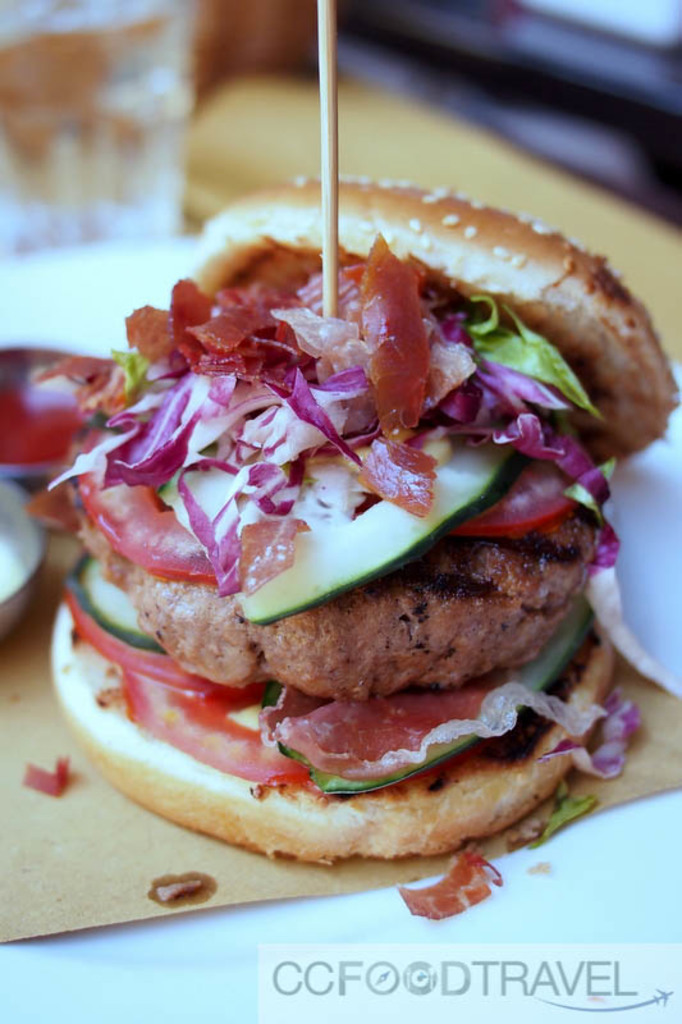Hamburger: (25, 177, 680, 867)
